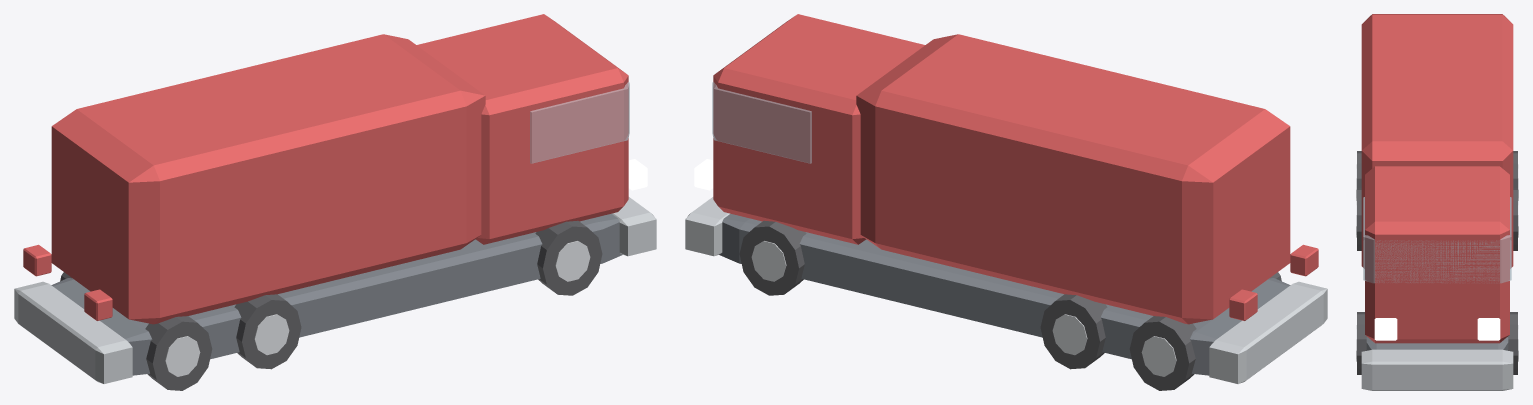
Rendered from b15_heavy_rescue_squad.glb.
3 views of the same model, side by side, from view 1: azimuth 30°, elevation 25°; view 2: azimuth 150°, elevation 25°; view 3: azimuth 270°, elevation 25° (orthographic). The views are drawn at different scales.
Visible parts, largest first — view 1: b15_heavy_rescue_squad; view 2: b15_heavy_rescue_squad; view 3: b15_heavy_rescue_squad.
Part boxes in pixels (x1,y1,x2,y2): b15_heavy_rescue_squad: (14,14,656,390); b15_heavy_rescue_squad: (685,14,1327,390); b15_heavy_rescue_squad: (1356,14,1518,390).
Bounding box in the file's own units: 9.73 × 3.73 × 2.91.
